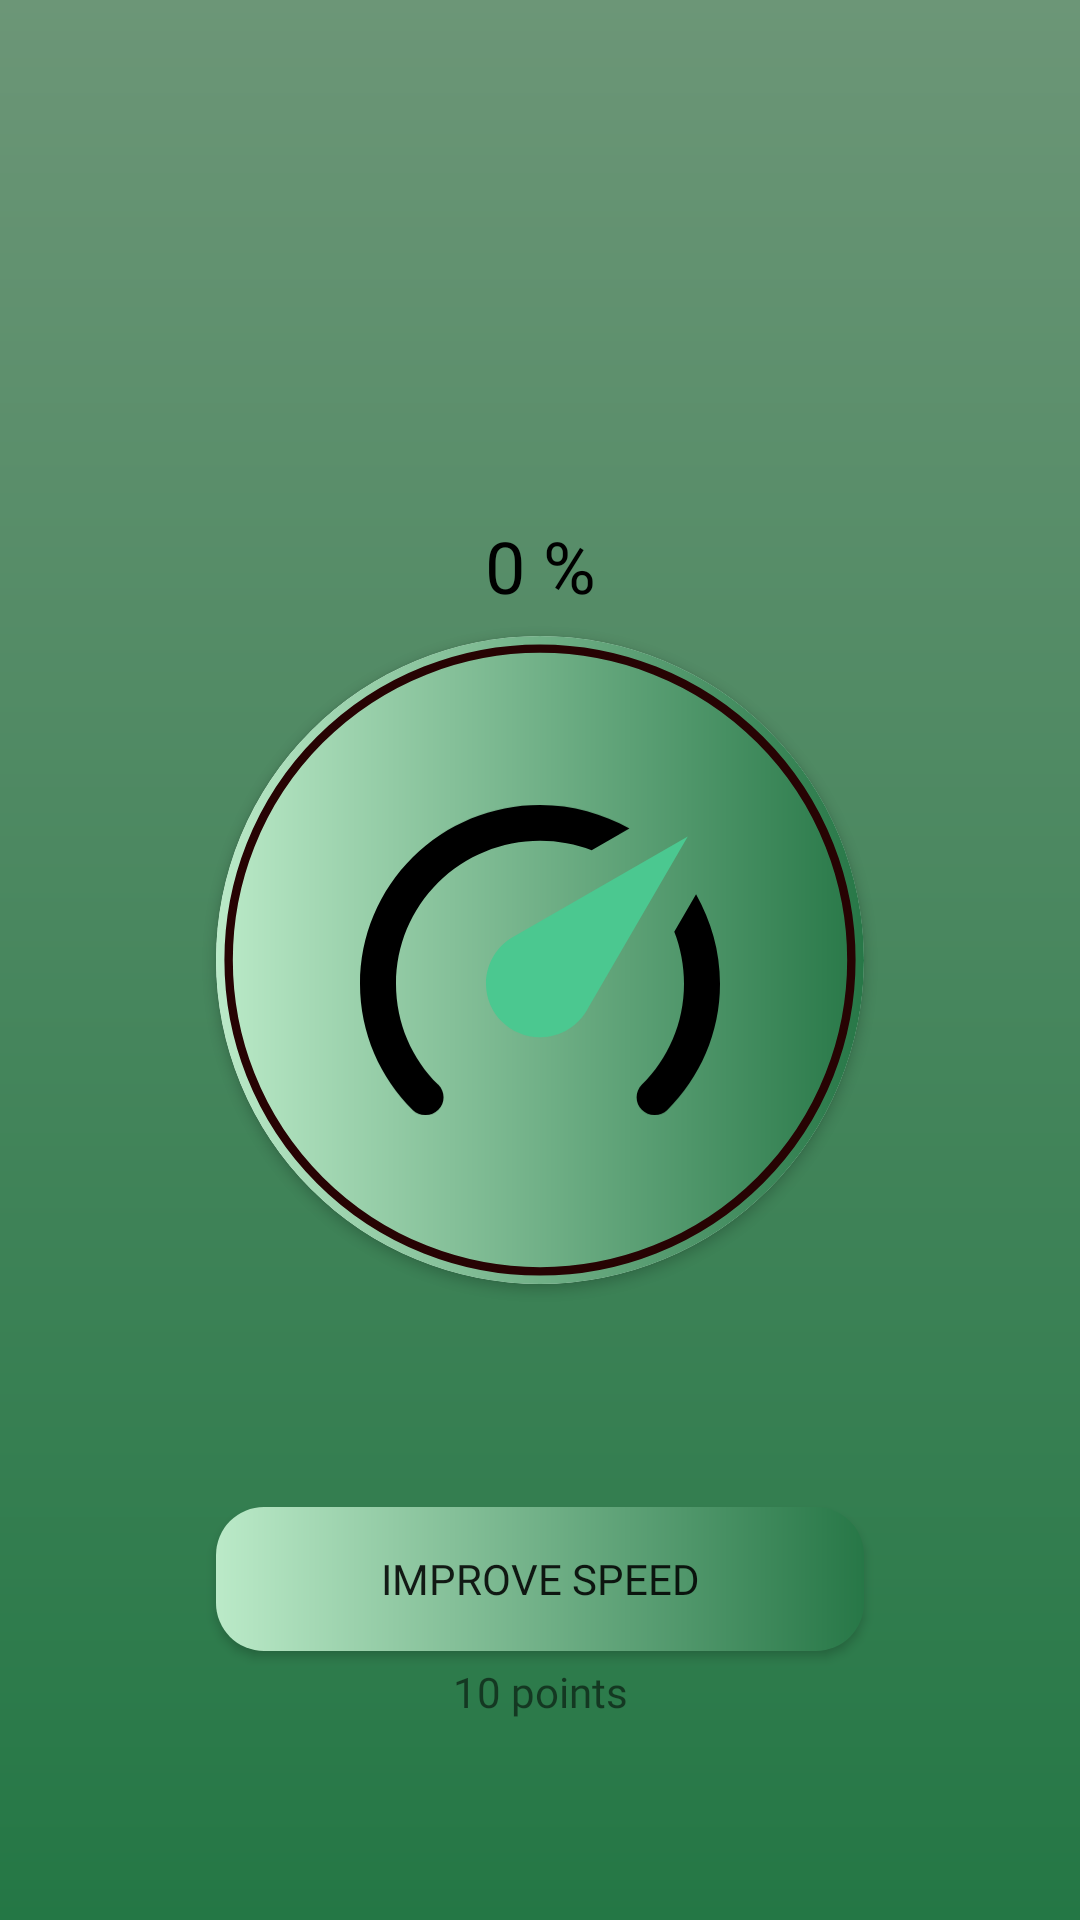

Where to tap for icons on this 1080 × 1920 app screen, as (x=x, y=y):
speed: (x=540, y=960)
